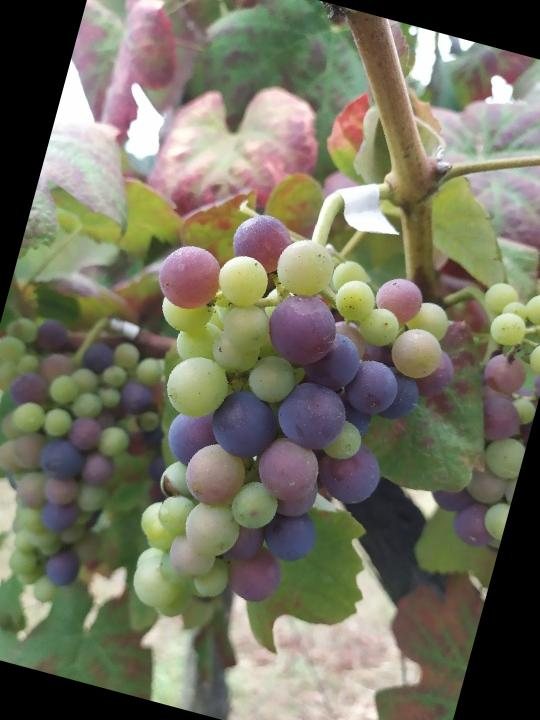grape: (69, 187, 486, 676)
